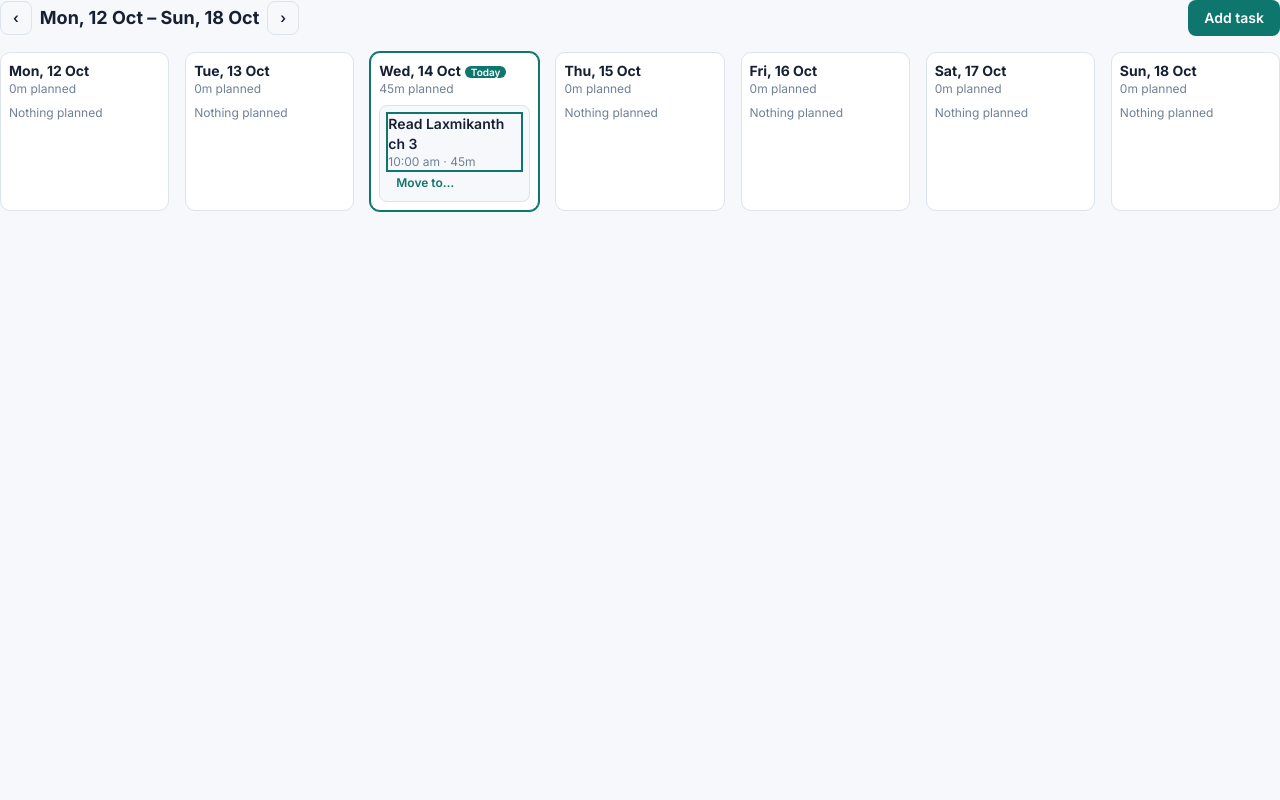
Test: WeekView › opens the task dialog when a card is clicked
The width and height of the screenshot is (1280, 800).
Click the button with aria-label "Open Read Laxmikanth ch 3".
click(455, 142)  # box [388,114,521,170]
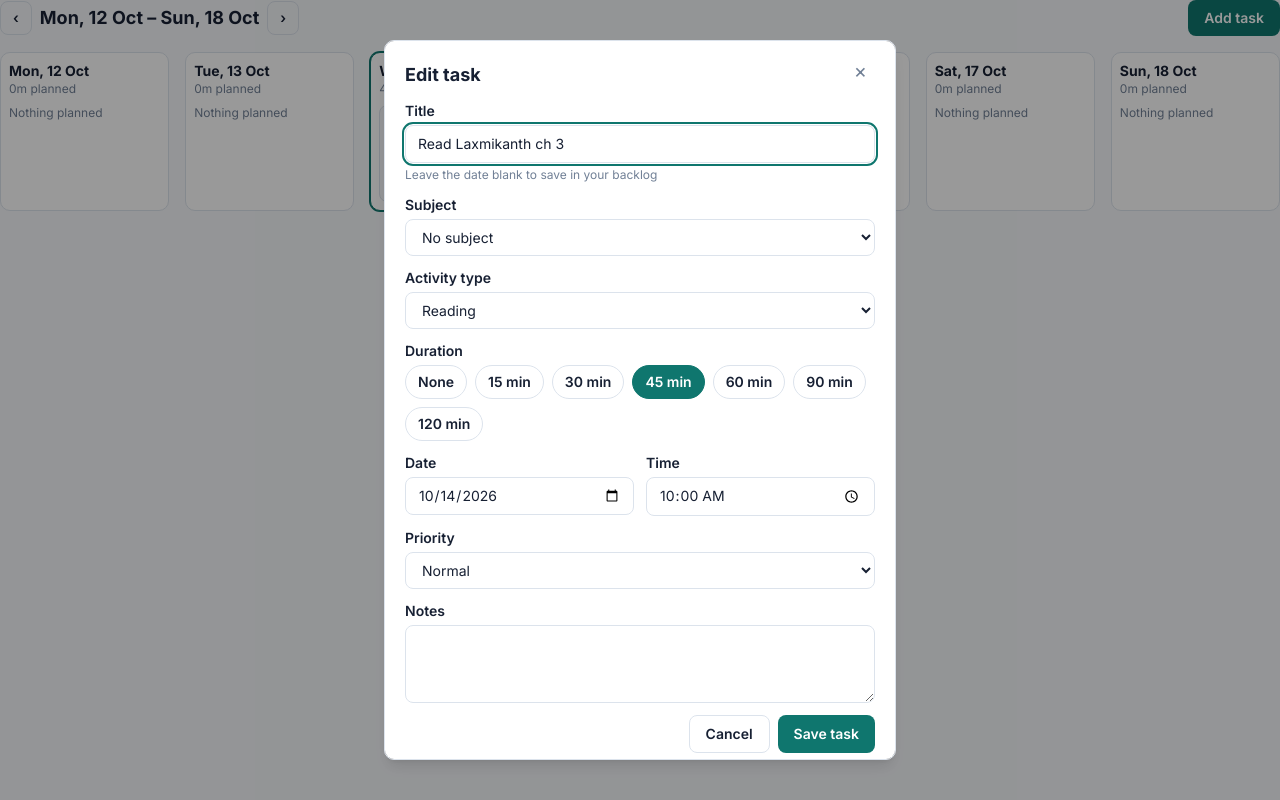
Expected: the dialog "Edit task" is shown, [384,40,896,760]
